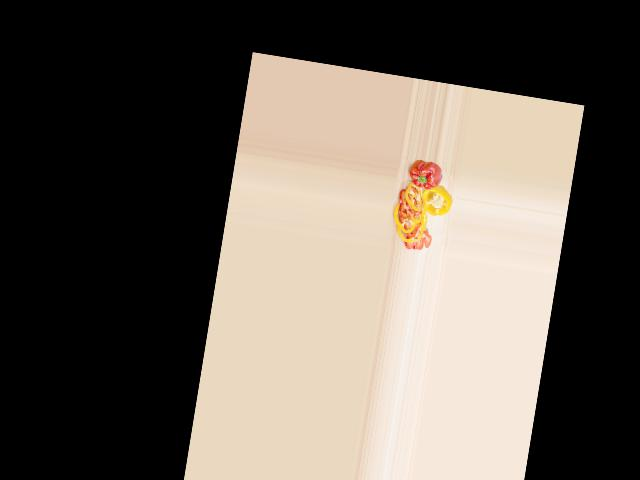bell_pepper: (419, 184, 455, 219)
